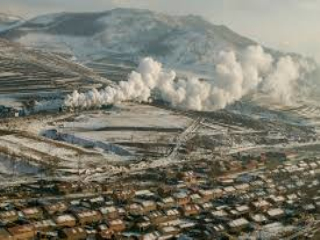smoke: (49, 47, 307, 129)
